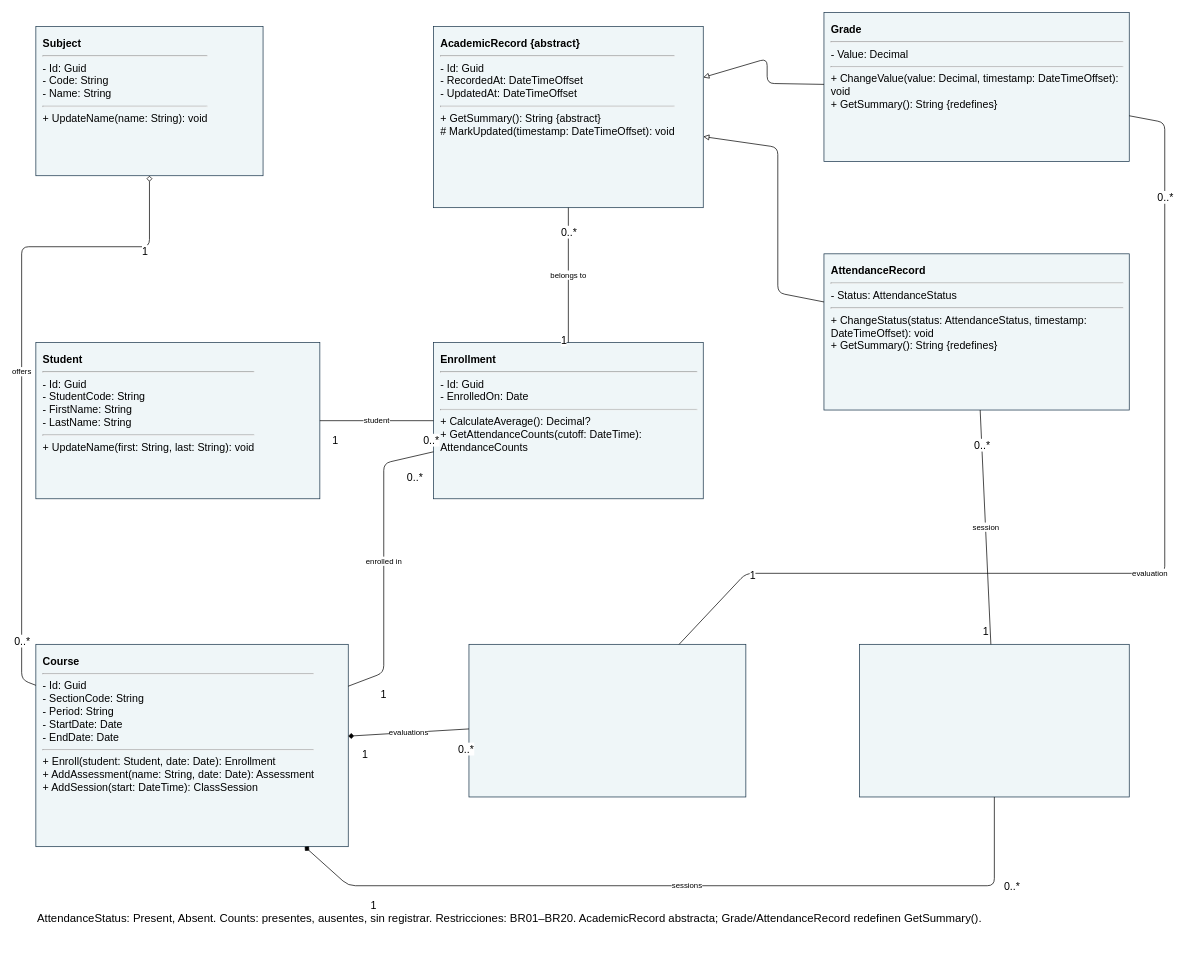
The diagram is 1186 pixels wide and 976 high, and some of its shapes have lost their labels. Here are the shapes that lost their labels. From the top down, the centre of each, then its label:
At (607,720): "Assessment - Id: Guid - Name: String - Date: Date + GetSummary(): String".
At (994,720): "ClassSession - Id: Guid - StartsAt: DateTime + GetDate(): Date".
